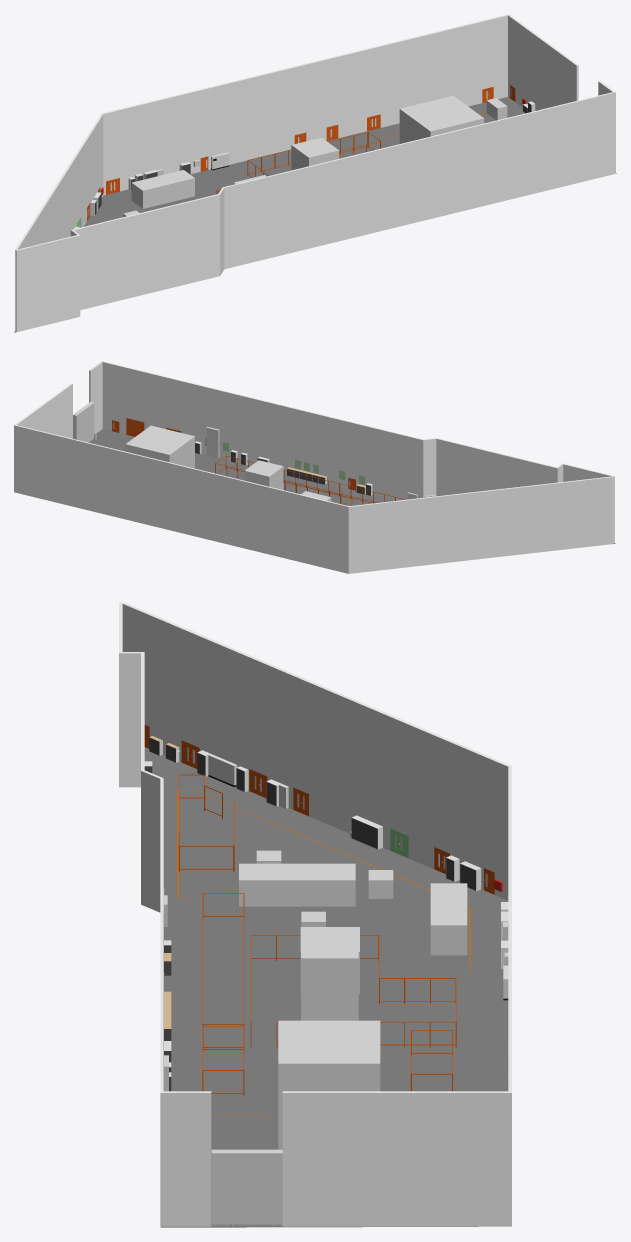
The model's file is map.gltf.
3 renders of one model, top to bottom at view 1: azimuth 30°, elevation 25°; view 2: azimuth 150°, elevation 25°; view 3: azimuth 270°, elevation 25°, orthographic. The views are drawn at different scales.
Parts seen in each view (by area): view 1: qiang, floor, 立方体.010, 立方体.013, 立方体.011; view 2: qiang, floor, 立方体.010, 立方体.011, damen, heiseguizi.002; view 3: qiang, floor, 立方体.010, damen, 立方体, 立方体.011, 立方体.013.
Boxes of the visible parts, x1,y1,x2,y2 form: qiang: (15,14,615,331); floor: (14,97,616,332); 立方体.010: (399,95,484,143); 立方体.013: (131,170,194,208); 立方体.011: (291,137,339,170); qiang: (14,361,614,573); floor: (89,429,615,543); 立方体.010: (125,425,194,468); 立方体.011: (244,460,283,489); damen: (73,402,94,442); heiseguizi.002: (206,427,219,458); qiang: (119,602,511,1226); floor: (144,747,508,1227); 立方体.010: (278,1020,380,1149); damen: (211,1149,282,1224); 立方体: (239,863,355,906); 立方体.011: (301,934,358,1020); 立方体.013: (430,883,467,955).
Size of the model in its own units: 94.88 by 13.07 by 31.91.
